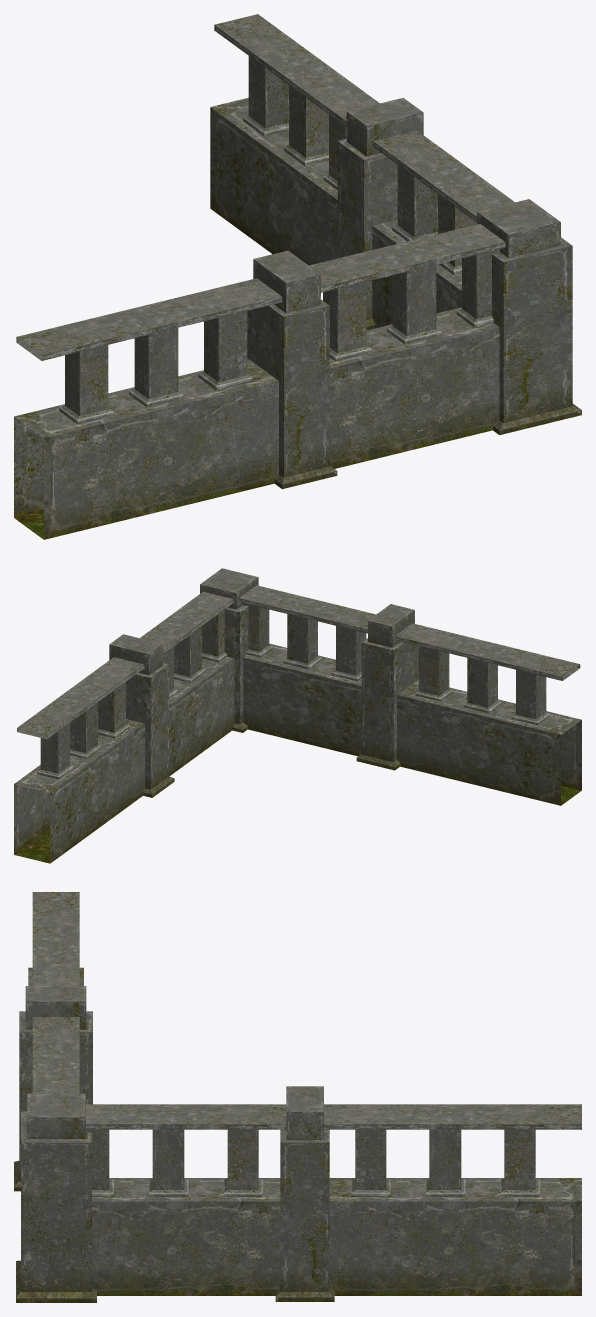
Rendered from SM_Kit_Tile_Stone_Barrier_A_L2.fbx.
3 views of the same model, one above another, from view 1: azimuth 30°, elevation 25°; view 2: azimuth 150°, elevation 25°; view 3: azimuth 270°, elevation 25° (orthographic). The views are drawn at different scales.
Visible parts, largest first — view 1: SM_Kit_Tile_Stone_Barrier_A_L2_LOD0; view 2: SM_Kit_Tile_Stone_Barrier_A_L2_LOD0; view 3: SM_Kit_Tile_Stone_Barrier_A_L2_LOD0.
Boxes of the visible parts, bbox=[...] form: SM_Kit_Tile_Stone_Barrier_A_L2_LOD0: bbox=[14, 14, 581, 539]; SM_Kit_Tile_Stone_Barrier_A_L2_LOD0: bbox=[14, 568, 581, 863]; SM_Kit_Tile_Stone_Barrier_A_L2_LOD0: bbox=[14, 892, 581, 1302].
Bounding box in the file's own units: 412 × 410 × 148.
1 material, 1 textured.
